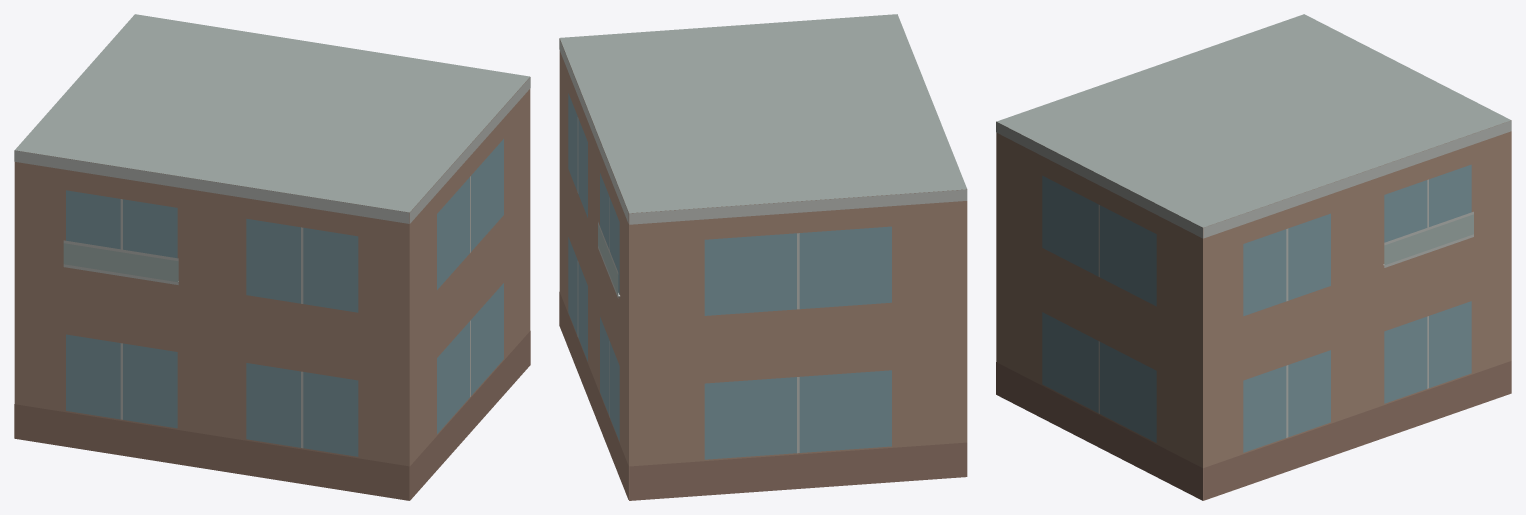
File: residential-9defb386-9147-4715-a3bd-a78b82a29246.glb
The picture shows the model from 3 angles, left to right: view 1: azimuth 30°, elevation 25°; view 2: azimuth 150°, elevation 25°; view 3: azimuth 270°, elevation 25°; orthographic projection. The views are drawn at different scales.
Visible parts, largest first — view 1: residential-9defb386-9147-4715-a3bd-a78b82a29246.tmp; view 2: residential-9defb386-9147-4715-a3bd-a78b82a29246.tmp; view 3: residential-9defb386-9147-4715-a3bd-a78b82a29246.tmp.
Part boxes in pixels (x1,y1,x2,y2): residential-9defb386-9147-4715-a3bd-a78b82a29246.tmp: (14, 14, 530, 500); residential-9defb386-9147-4715-a3bd-a78b82a29246.tmp: (559, 14, 967, 500); residential-9defb386-9147-4715-a3bd-a78b82a29246.tmp: (996, 14, 1511, 500).
Size of the model in its own units: 10.25 by 6.1 by 10.44.
